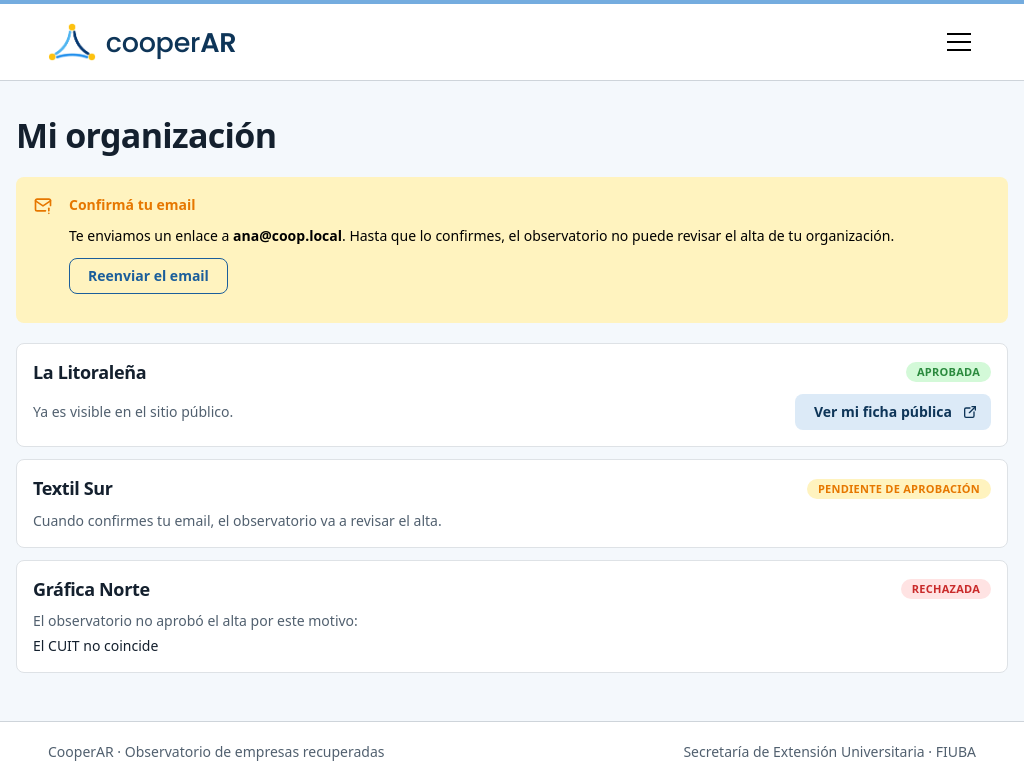
it: cooperative panel › says so when the link cannot be resent
This screenshot has width=1024, height=763.
Click the button "Reenviar el email": (148, 276) [69,258,228,294]
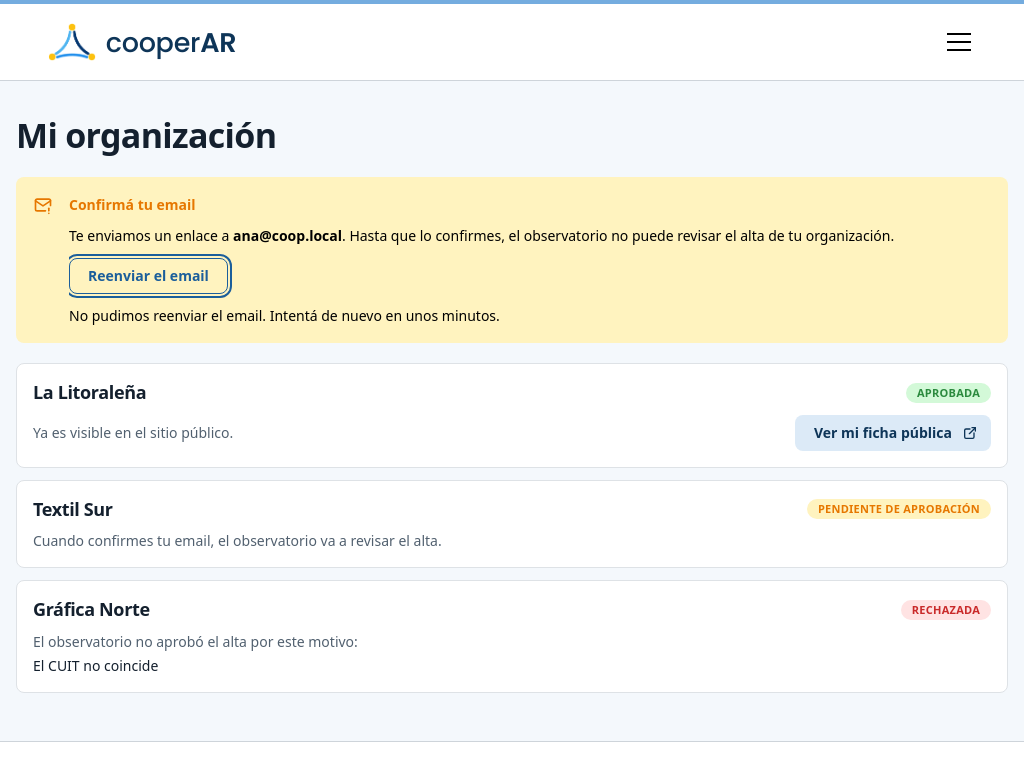
Now the text "No pudimos reenviar el email. Intentá de nuevo en unos minutos." is shown, box [69,306,500,326]
